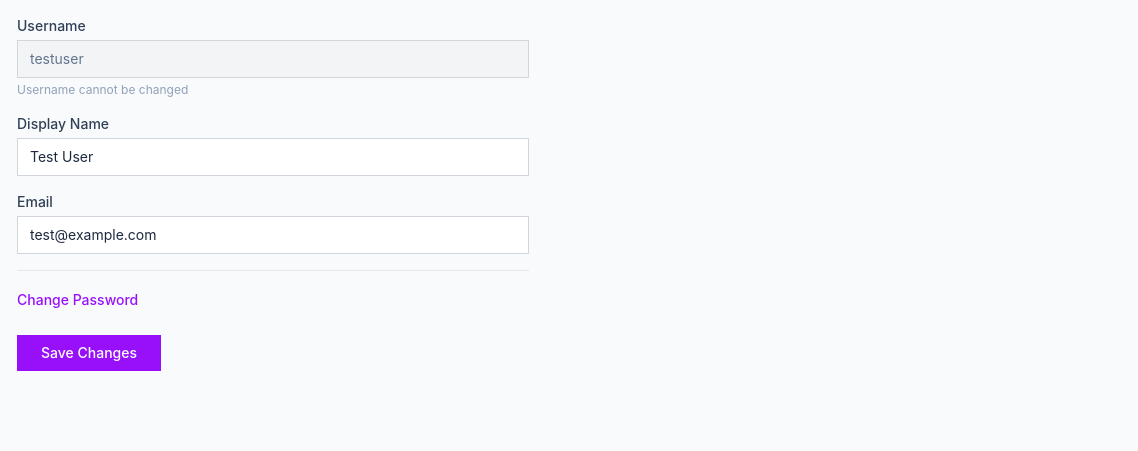
it: ProfilePage › shows "no changes" error when saving without modifications
Step 1. Click the button "Save Changes" → [89, 353], box 17,335 -> 161,371
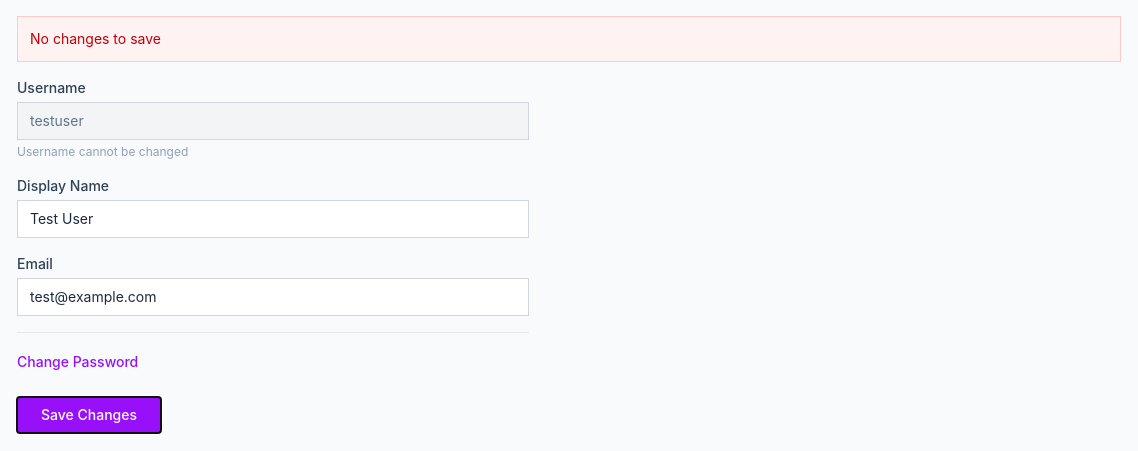
Check: the text "No changes to save" is shown, box 17,16 -> 1121,62
